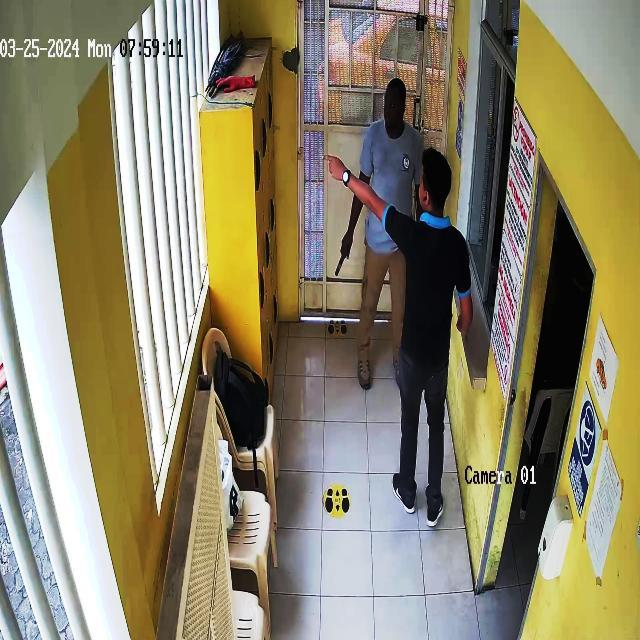Gun: (328, 242, 358, 286)
